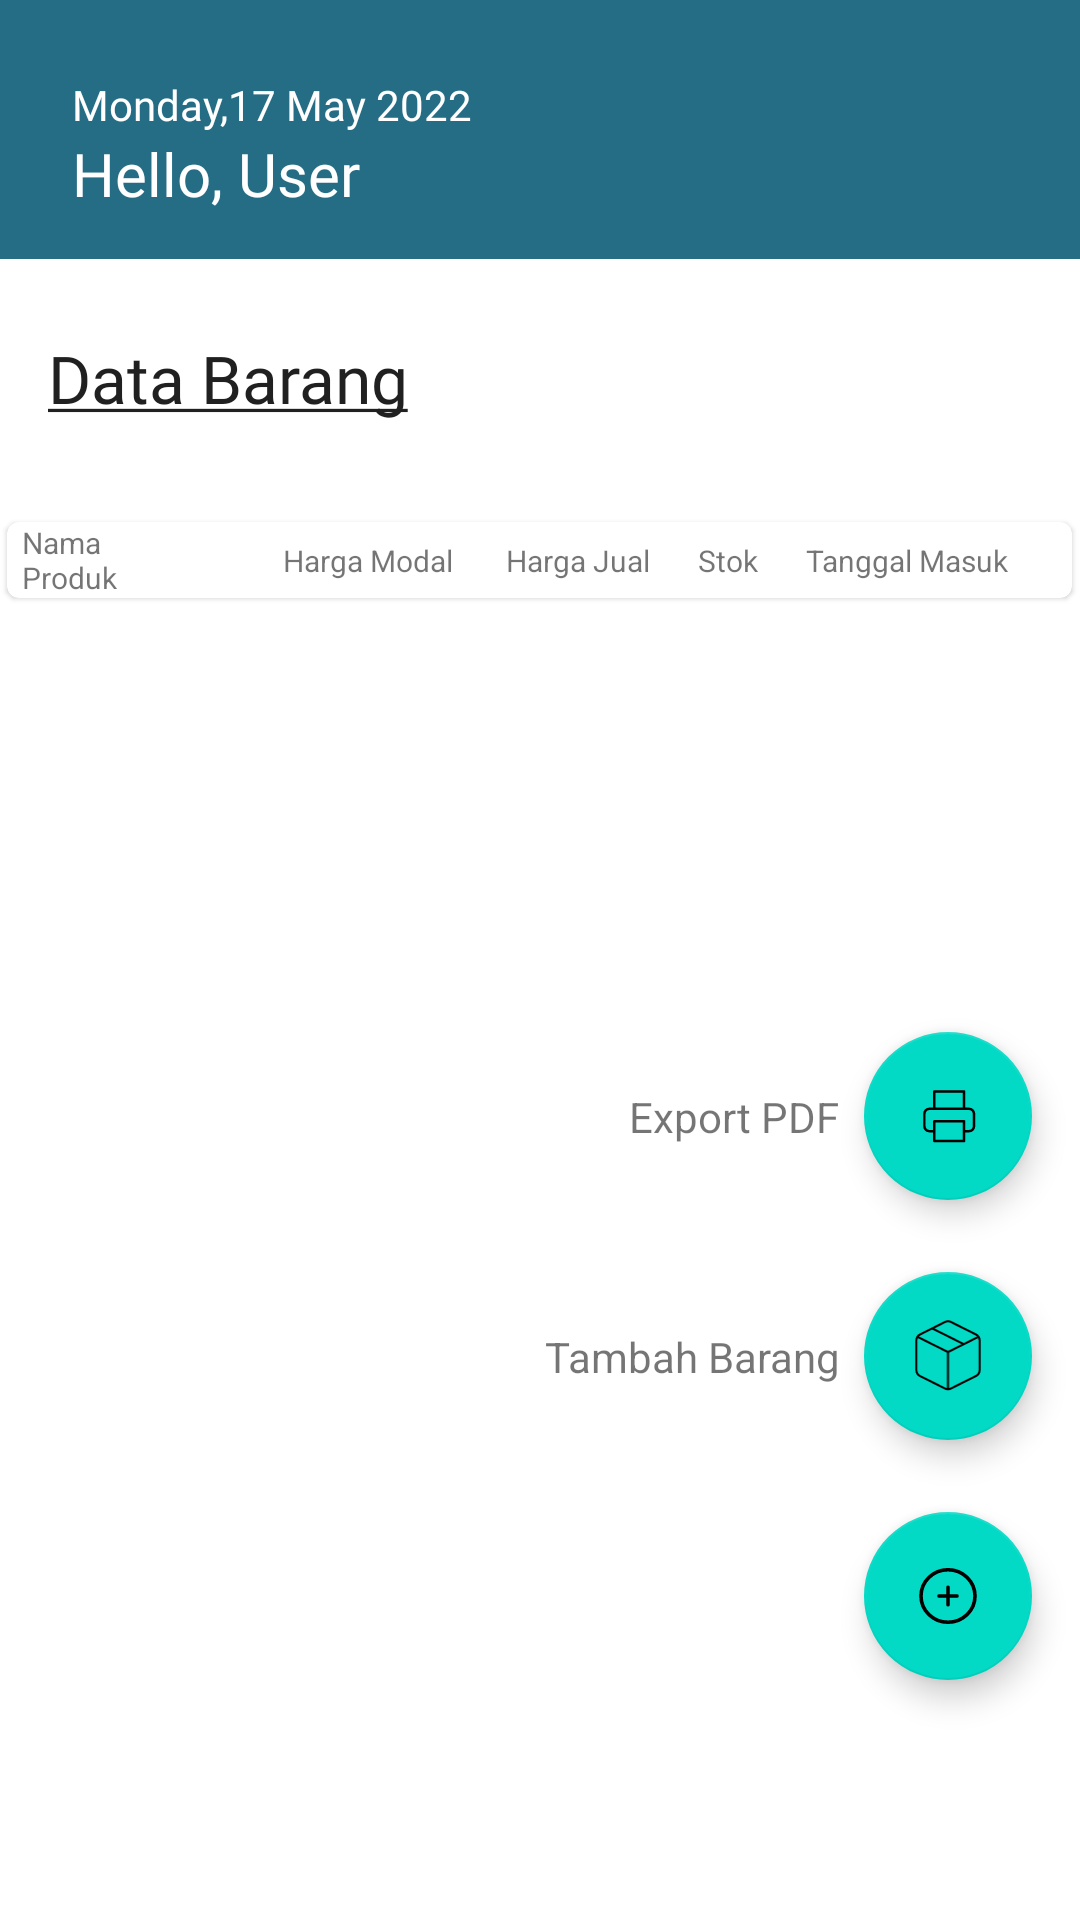

Where to tap for icons on this 1080×1920 app screen, as (x,y):
plus: (948,1596)
